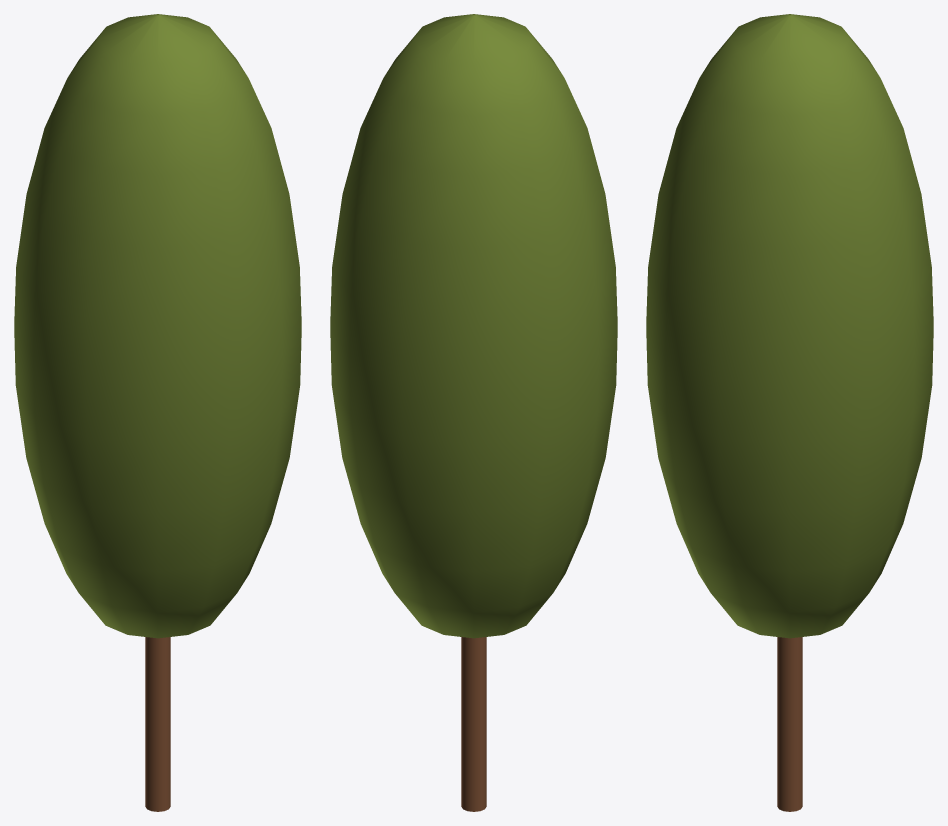
The model's file is Lodgepole_Pine_Analytical_0.obj.
The picture shows the model from 3 angles, left to right: view 1: azimuth 30°, elevation 25°; view 2: azimuth 150°, elevation 25°; view 3: azimuth 270°, elevation 25°; orthographic projection.
Parts seen in each view (by area): view 1: AnalyticalCrown, AnalyticalTrunk; view 2: AnalyticalCrown, AnalyticalTrunk; view 3: AnalyticalCrown, AnalyticalTrunk.
Boxes of the visible parts, box(x1,y1,x2,y2) form: AnalyticalCrown: box(14, 14, 301, 638); AnalyticalTrunk: box(145, 637, 170, 811); AnalyticalCrown: box(330, 14, 617, 638); AnalyticalTrunk: box(461, 637, 486, 811); AnalyticalCrown: box(646, 14, 933, 638); AnalyticalTrunk: box(777, 637, 802, 811).
Size of the model in its own units: 13.18 by 40 by 13.18.
